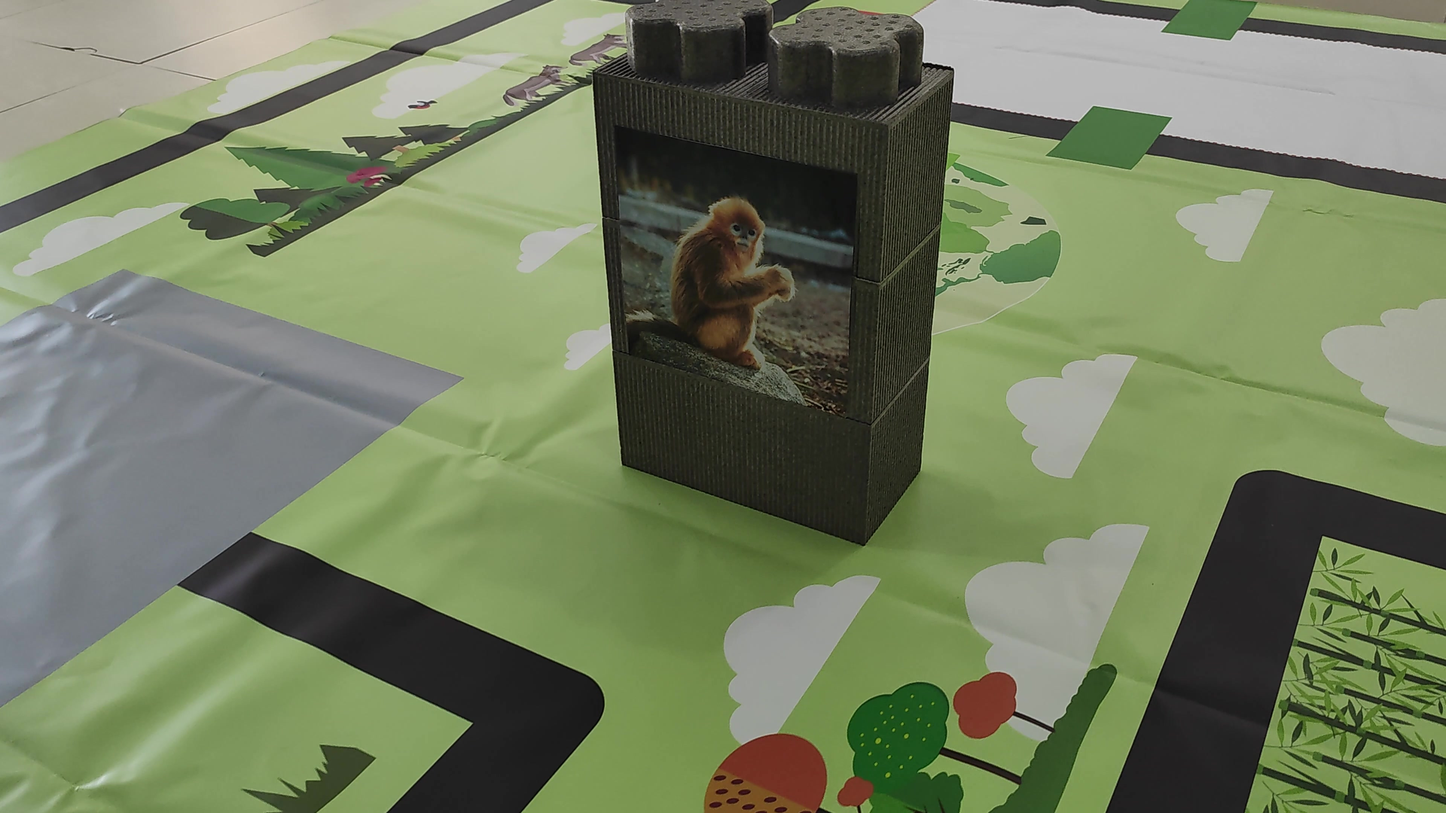monkey: (616, 167, 810, 384)
